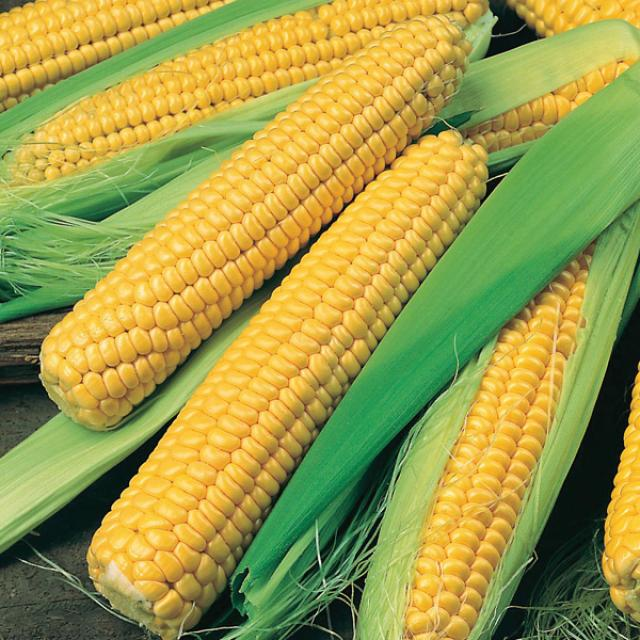corn: (81, 131, 511, 634), (37, 18, 497, 430), (383, 216, 619, 640)
